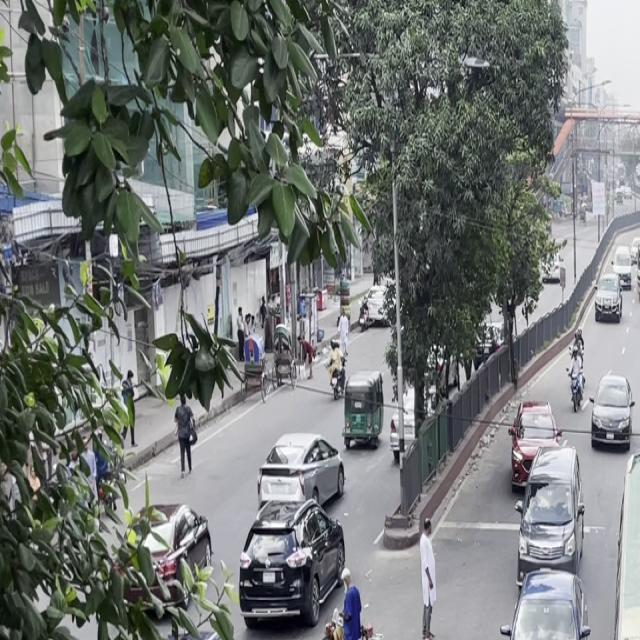car: (236, 467, 351, 627), (516, 452, 587, 573), (494, 559, 594, 640), (508, 398, 561, 495), (589, 367, 637, 458), (592, 278, 622, 326), (600, 239, 629, 285), (638, 262, 640, 305)
motorbike: (565, 348, 586, 414), (568, 316, 587, 362)
rickshaw: (338, 362, 388, 454)
